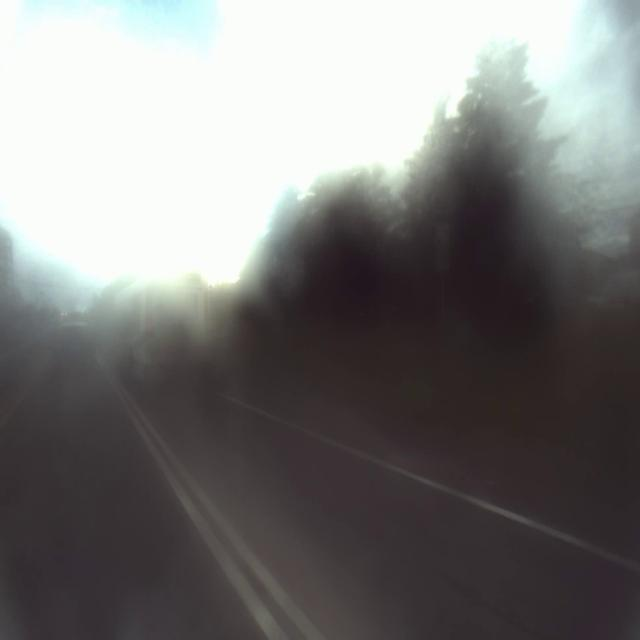car: (43, 308, 96, 381)
